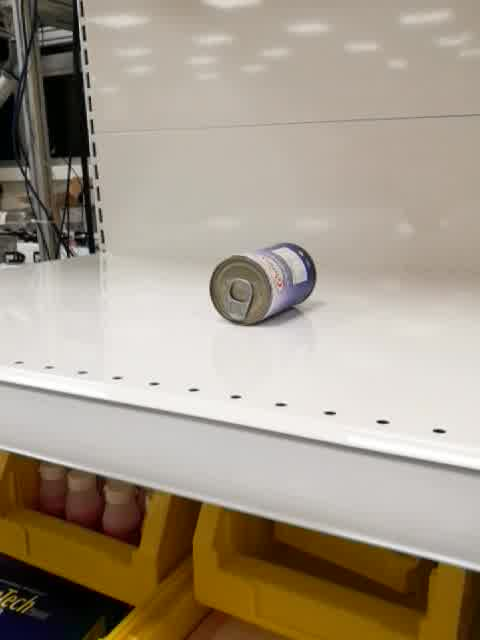sardine: (208, 242, 317, 326)
